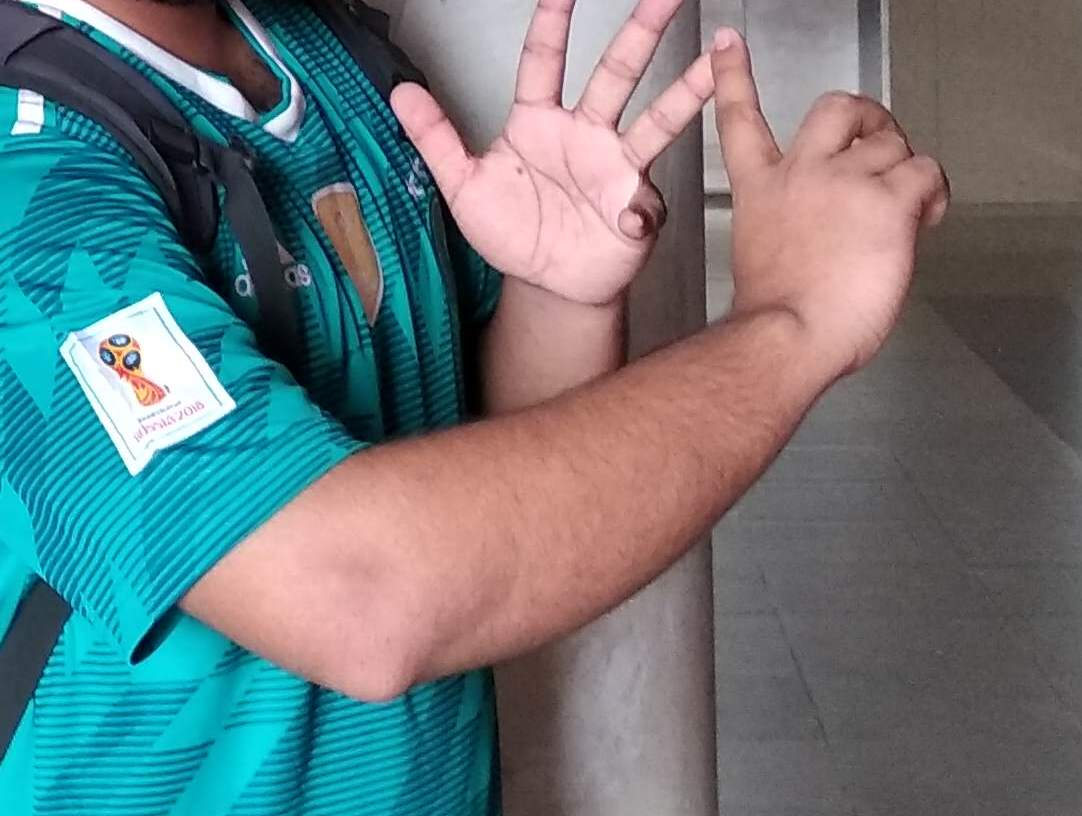e: (442, 1, 854, 245)
